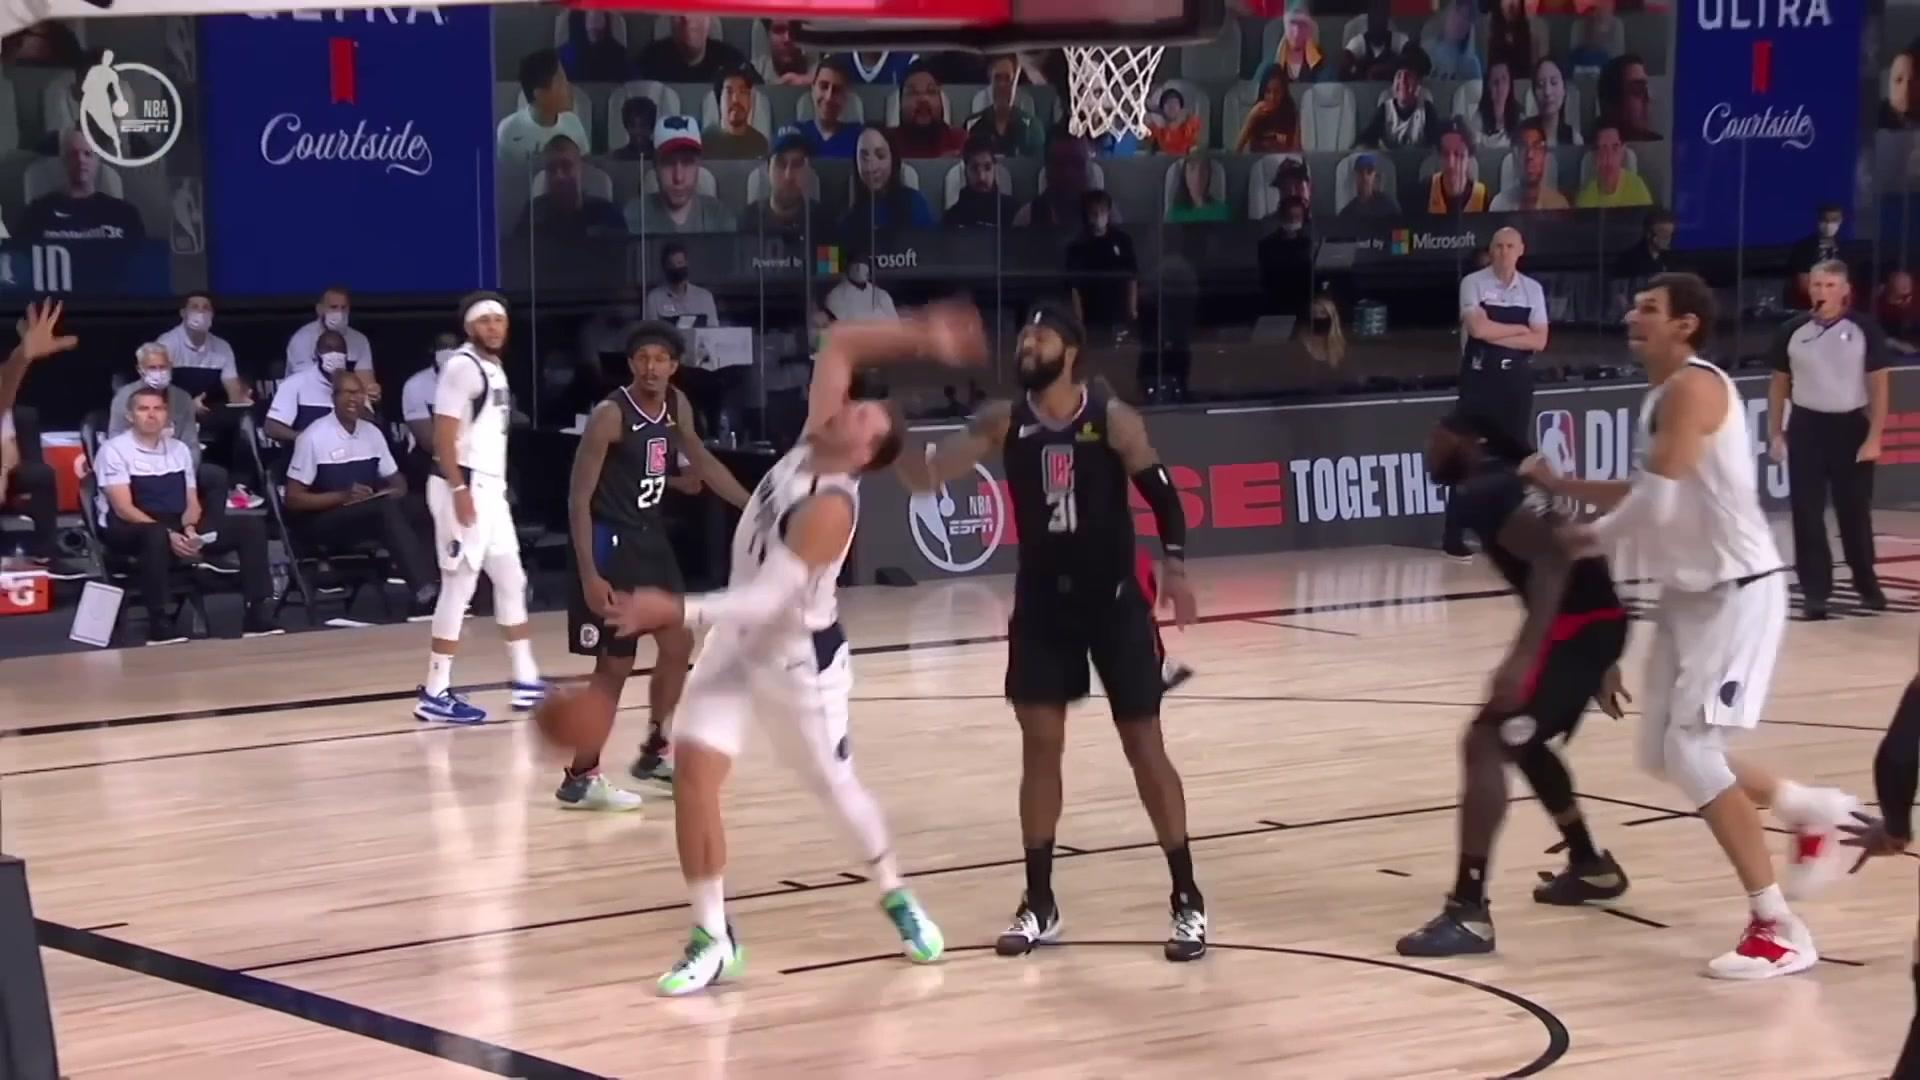foul: (624, 280, 1236, 989)
